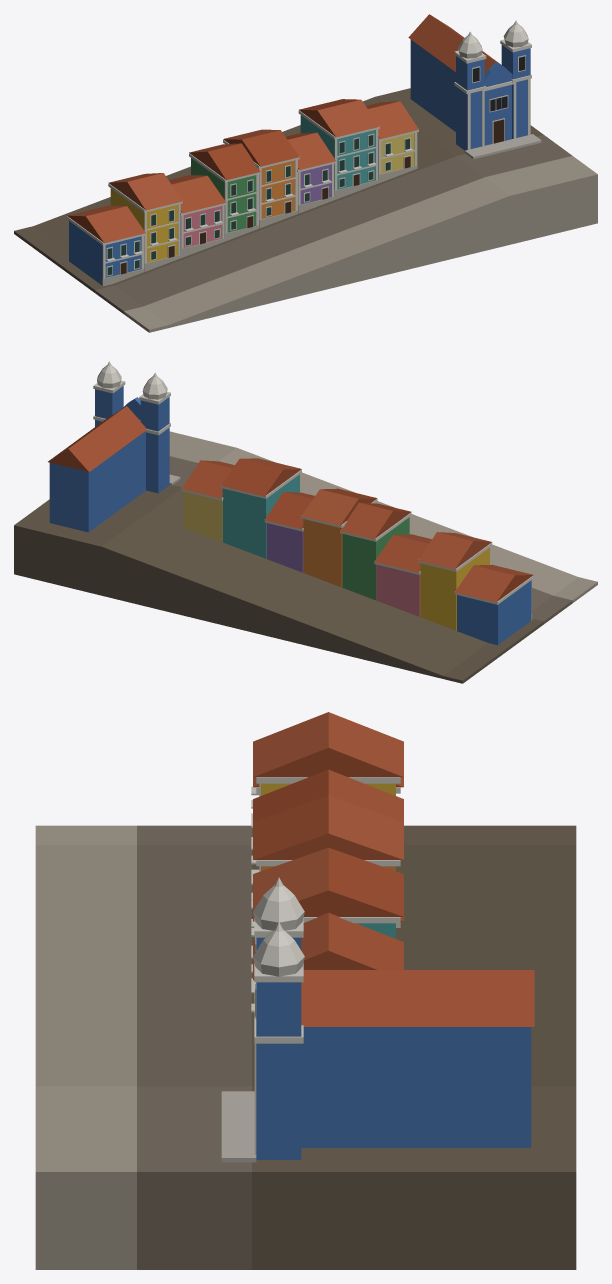
File: pelourinho.glb
3 views of the same model, one above another, from view 1: azimuth 30°, elevation 25°; view 2: azimuth 150°, elevation 25°; view 3: azimuth 270°, elevation 25° (orthographic). The views are drawn at different scales.
Visible parts, largest first — view 1: pelourinho; view 2: pelourinho; view 3: pelourinho.
Boxes of the visible parts, x1,y1,x2,y2 form: pelourinho: (14,14,597,332); pelourinho: (14,361,597,683); pelourinho: (35,712,576,1269).
Bounding box in the file's own units: 92 × 32.1 × 48.
